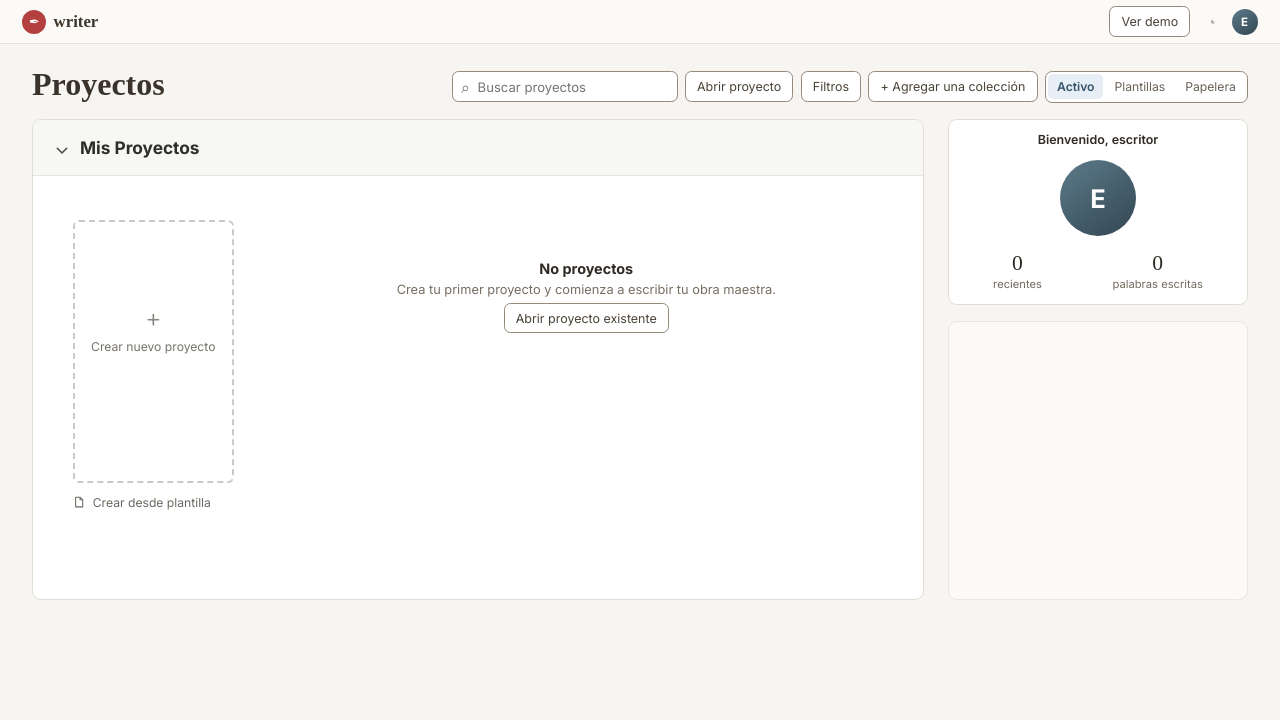
Test case: autosave de la interfaz › mantiene el historial cuando el proyecto queda sin documentos
Click the button "Ver demo". click: (1150, 22)
box: x1=1109 y1=6 x2=1190 y2=37
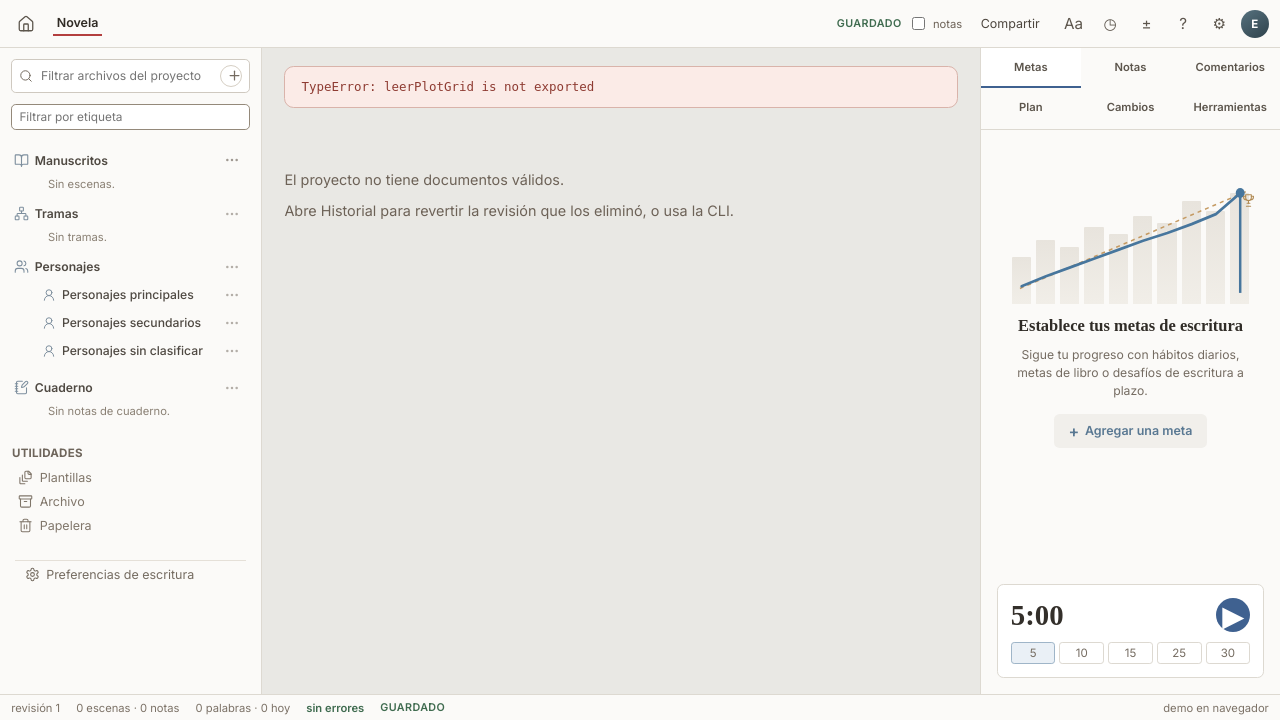
Expected: the text "El proyecto no tiene documentos válidos." is shown, x1=284 y1=171 x2=564 y2=188
Expected: the button named "Historial" is enabled
Click the button named "Historial". click: (1110, 24)
box: x1=1095 y1=8 x2=1125 y2=38
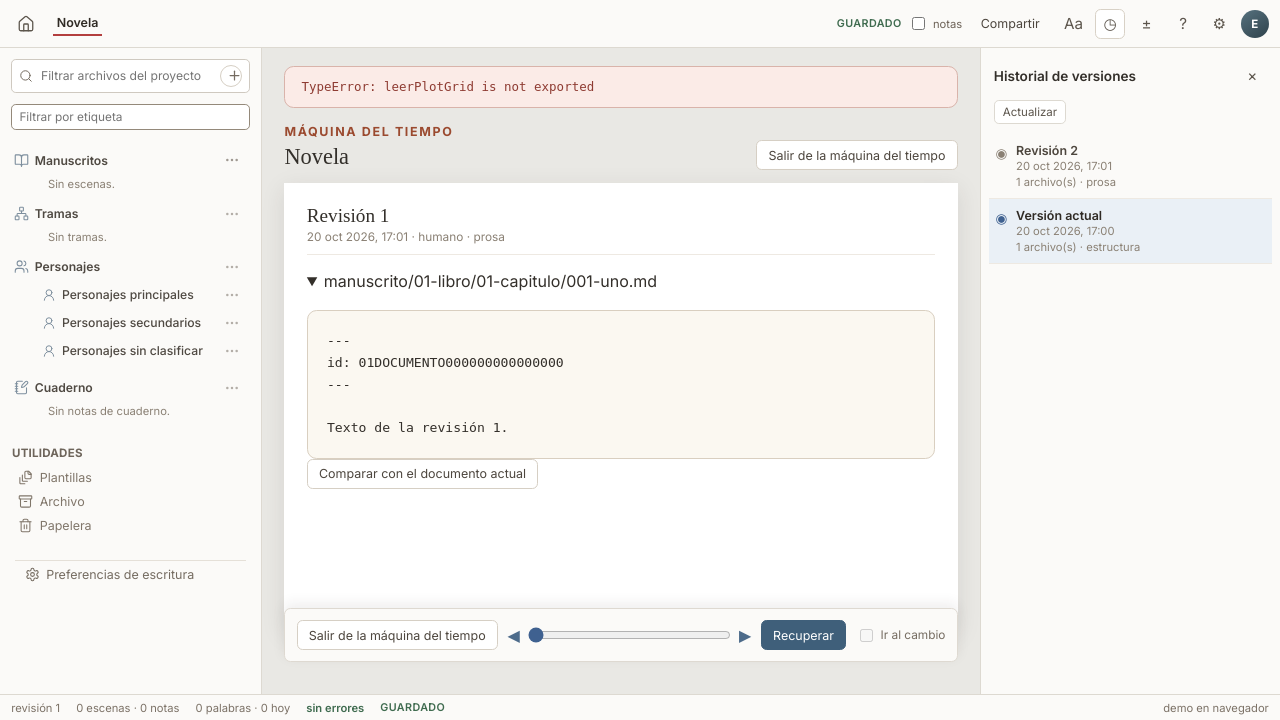
Expected: the text "Historial de versiones" is shown, x1=994 y1=68 x2=1136 y2=84
